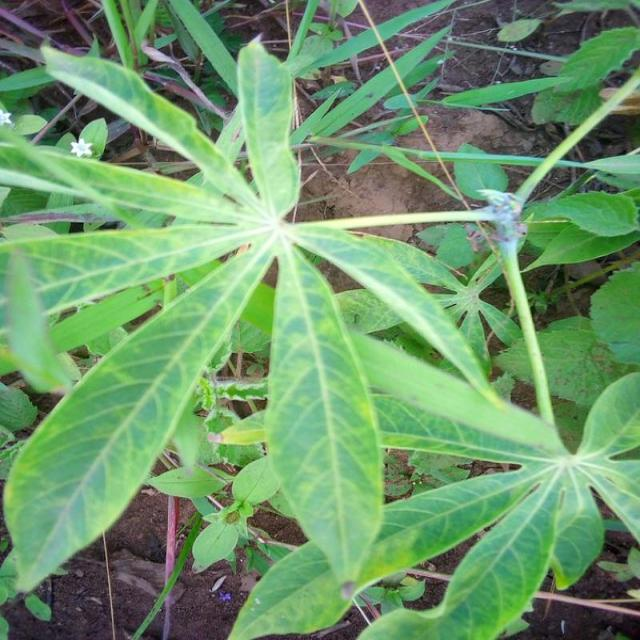cassava leaf: (1, 23, 637, 637), (1, 242, 272, 594), (263, 239, 385, 590)
